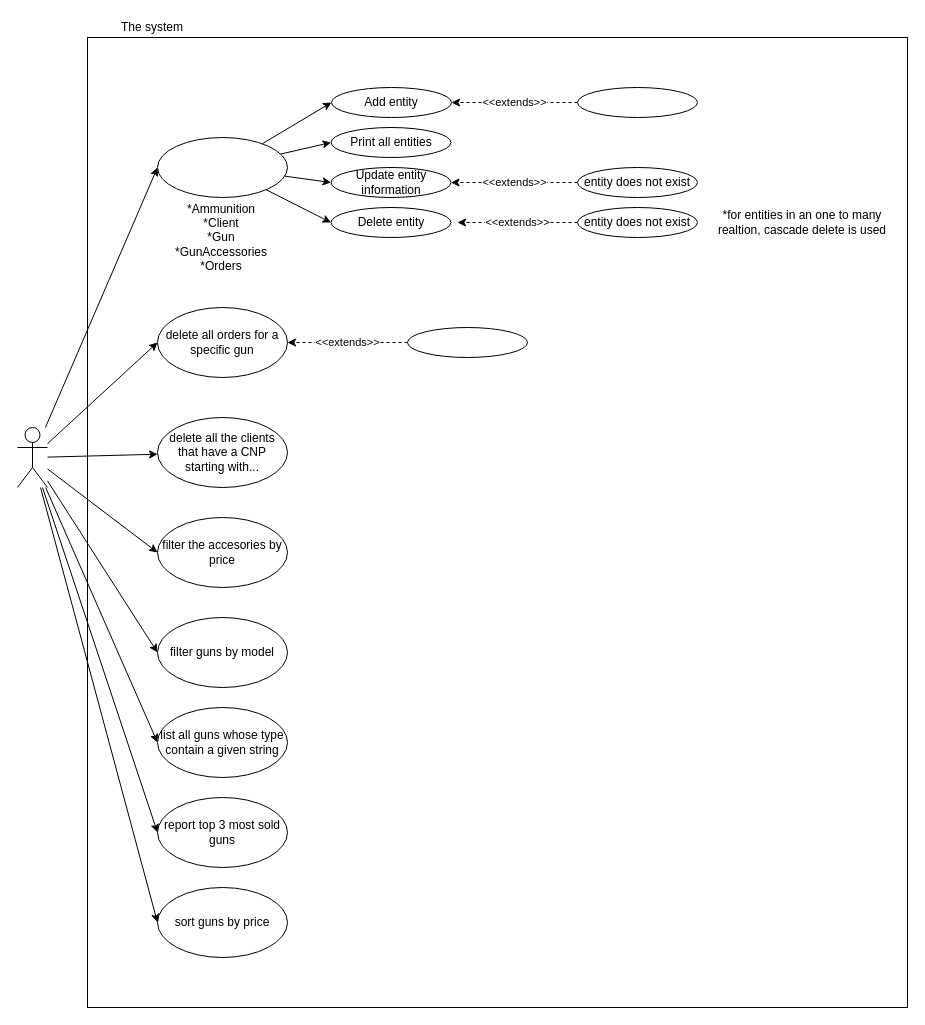
This 925x1025 diagram has some shape labels left out. Here are the shapes that lost their labels. From the top down, the centre of each, then its label:
At [637,102]: "entity already in the database".
At [222,167]: "CRUD Entity".
At [467,342]: "gun does not exist".
At [32,457]: "User".
